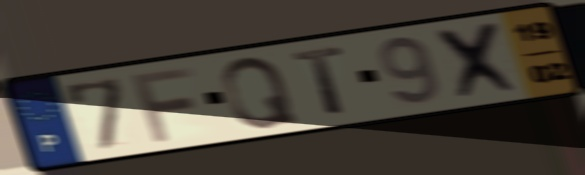7: (62, 74, 126, 152)
9: (375, 33, 444, 108)
F: (128, 64, 198, 144)
Q: (219, 54, 301, 131)
T: (289, 44, 349, 118)
X: (431, 18, 528, 103)
